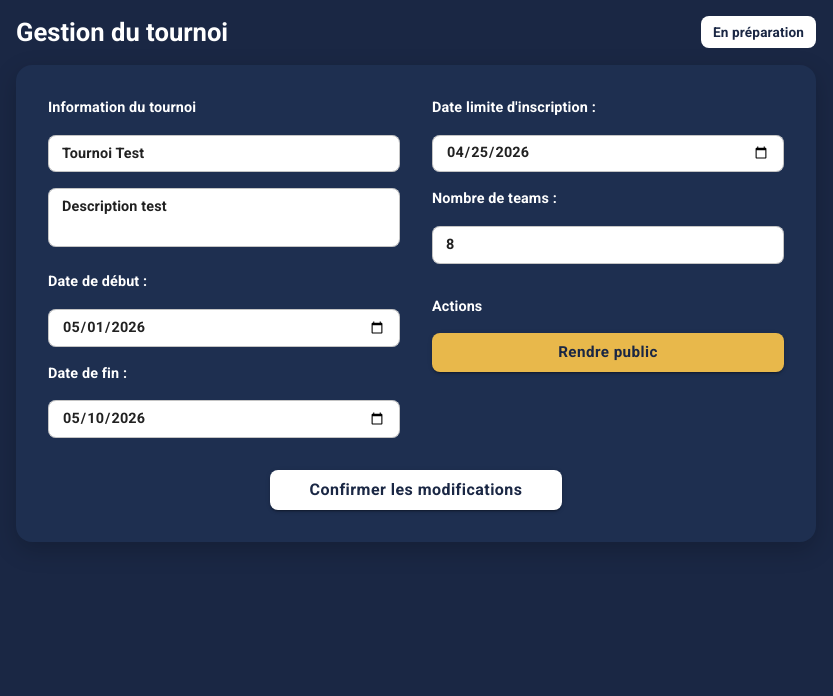
Test case: TournamentAdminPage › appelle updateTournament et affiche le succès en cliquant sur Confirmer
Click the button "Confirmer les modifications" at {"x": 416, "y": 490}, box left=270, top=470, right=562, bottom=510
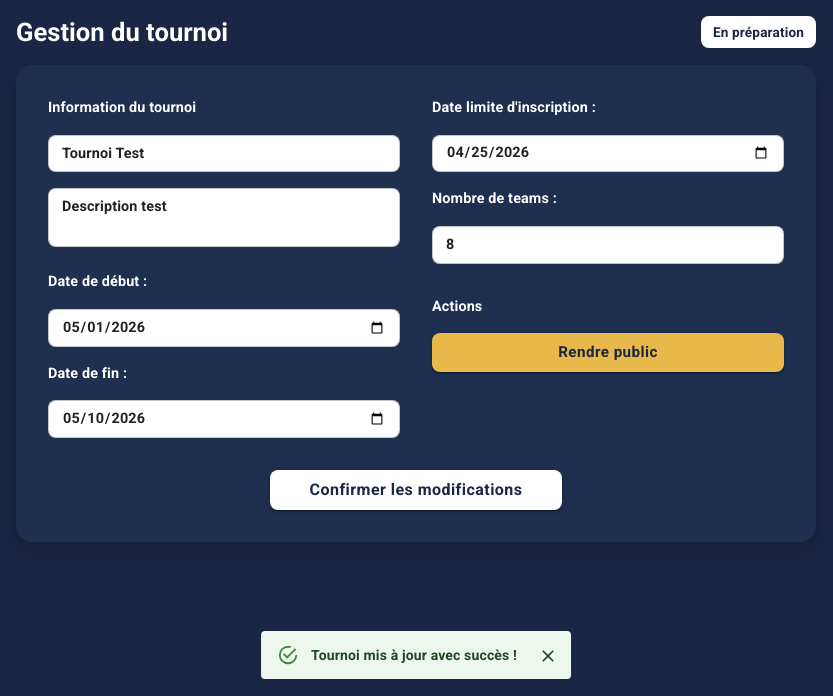
Now the text "Tournoi mis à jour avec succès !" is shown, box left=311, top=647, right=517, bottom=663
